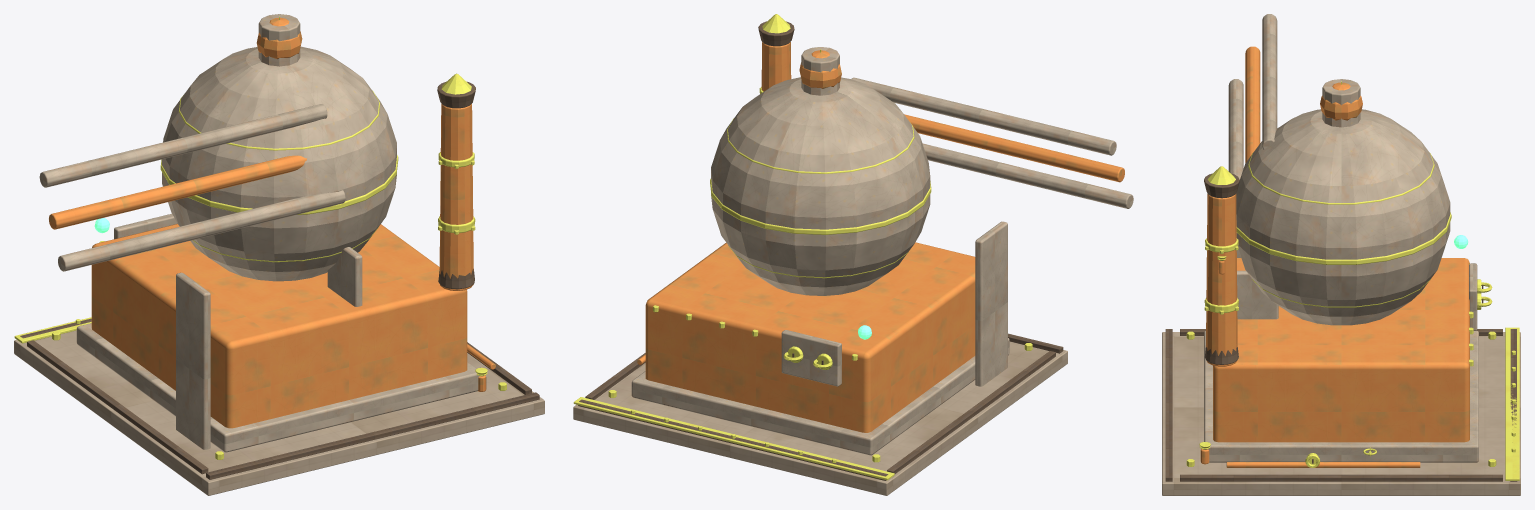
The model's file is ff-chemplant.glb.
The picture shows the model from 3 angles, left to right: view 1: azimuth 30°, elevation 25°; view 2: azimuth 150°, elevation 25°; view 3: azimuth 270°, elevation 25°; orthographic projection. The views are drawn at different scales.
Visible parts, largest first — view 1: BaseBlock, Reactor, Pad.012, Skirt.001, PadLipN.012, PadPipe.012, Bolt.020; view 2: Reactor, BaseBlock, Pad.012, Skirt.001, PadLipN.012, PadPipe.012, Bolt.020, GaugeBoss.008; view 3: Reactor, BaseBlock, Pad.012, Skirt.001, PadLipN.012, Bolt.020, PadPipe.012, GaugeBoss.008.
Part boxes in pixels (x1,y1,x2,y2): BaseBlock: (91, 103, 473, 428); Reactor: (39, 14, 396, 281); Pad.012: (14, 330, 544, 495); Skirt.001: (76, 213, 479, 452); PadLipN.012: (20, 81, 539, 479); PadPipe.012: (49, 17, 495, 391); Bolt.020: (52, 16, 506, 459); Reactor: (711, 47, 1133, 295); BaseBlock: (645, 42, 975, 432); Pad.012: (573, 341, 1067, 495); Skirt.001: (631, 221, 1009, 455); PadLipN.012: (578, 21, 1063, 480); PadPipe.012: (637, 50, 1124, 364); Bolt.020: (608, 14, 1032, 463); GaugeBoss.008: (573, 397, 894, 480); Reactor: (1228, 14, 1450, 325); BaseBlock: (1206, 194, 1469, 442); Pad.012: (1162, 332, 1520, 495); Skirt.001: (1204, 250, 1478, 462); PadLipN.012: (1165, 173, 1517, 481); Bolt.020: (1186, 81, 1515, 466); PadPipe.012: (1200, 46, 1420, 467); GaugeBoss.008: (1369, 327, 1519, 480).
Bounding box in the file's own units: 3.95 × 3.13 × 3.
Materials: 11 (9 with a texture image).
